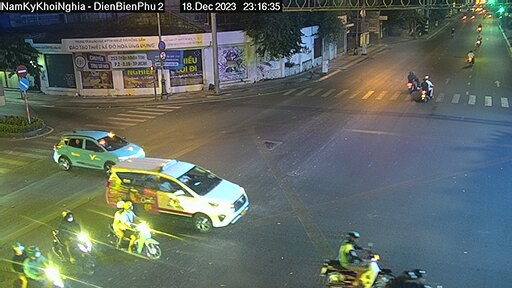car: (101, 149, 259, 232), (55, 122, 141, 176)
motorbike: (309, 234, 393, 287), (103, 202, 175, 262), (49, 201, 108, 272), (5, 233, 73, 288), (418, 76, 441, 102), (400, 69, 418, 90), (462, 49, 479, 68), (473, 37, 488, 50), (472, 24, 487, 36)
